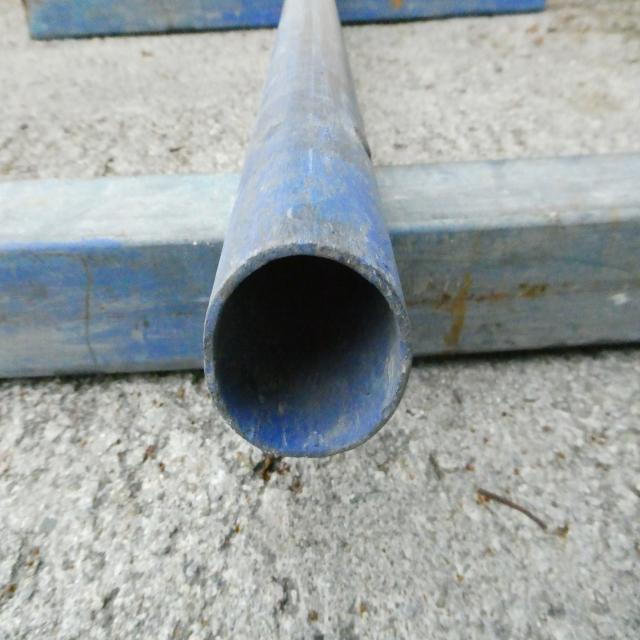pipe: (201, 246, 413, 460)
